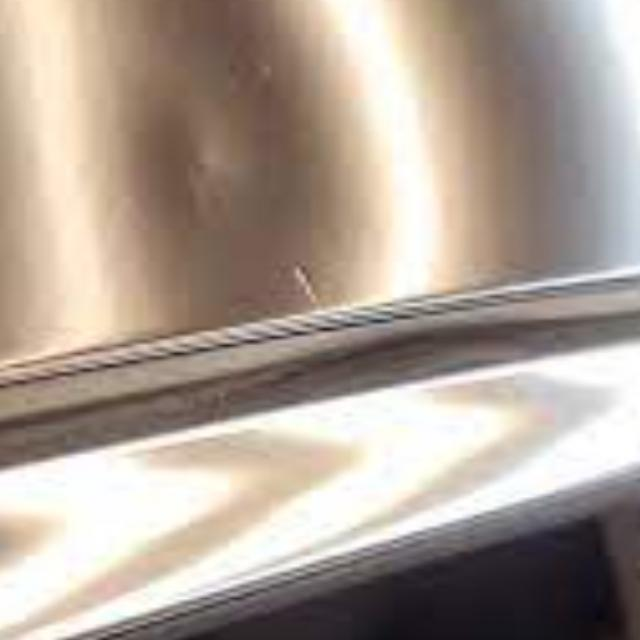dents: (137, 110, 265, 238)
